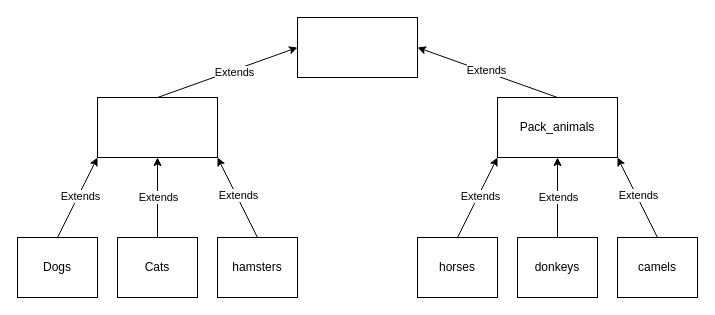
This 715x315 diagram has some shape labels left out. The shapes that lost their labels are listed below. From the top down, each one's centre as x and y in pixels, then its label:
the point at 357,47: Animals
the point at 157,127: Pets
